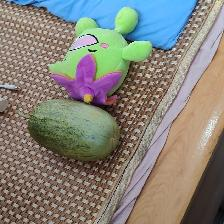gua: (32, 99, 112, 155)
